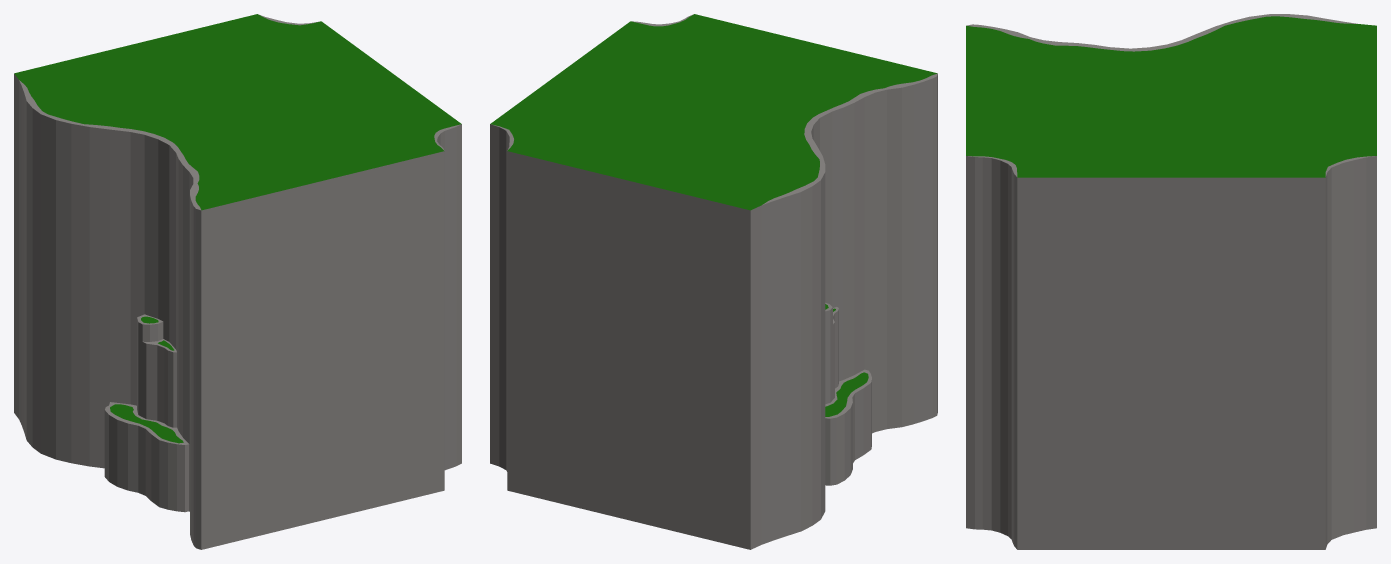
File: MountainDoubleWedgePath.fbx
The picture shows the model from 3 angles, left to right: view 1: azimuth 30°, elevation 25°; view 2: azimuth 150°, elevation 25°; view 3: azimuth 270°, elevation 25°; orthographic projection. The views are drawn at different scales.
Parts seen in each view (by area): view 1: Plane.012; view 2: Plane.012; view 3: Plane.012.
Part boxes in pixels (bbox=[...]): Plane.012: bbox=[14, 14, 461, 549]; Plane.012: bbox=[490, 14, 937, 549]; Plane.012: bbox=[966, 14, 1376, 549].
Bounding box in the file's own units: 94.21 × 100 × 100.
